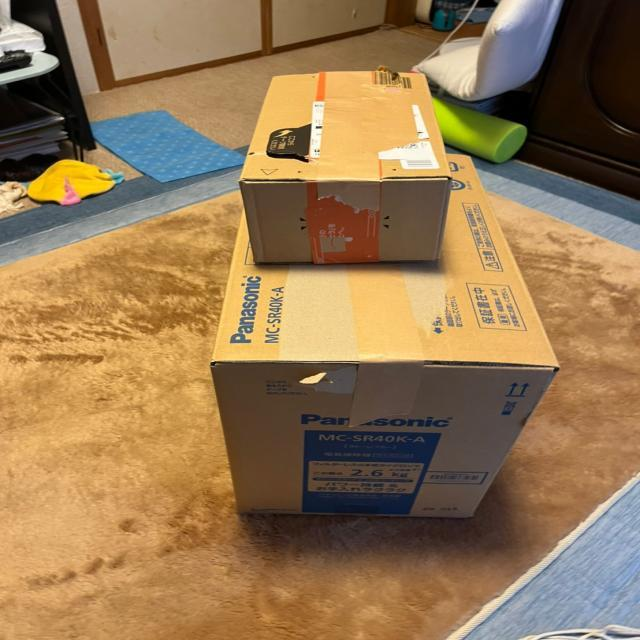-: (205, 147, 566, 527), (230, 66, 461, 268)
